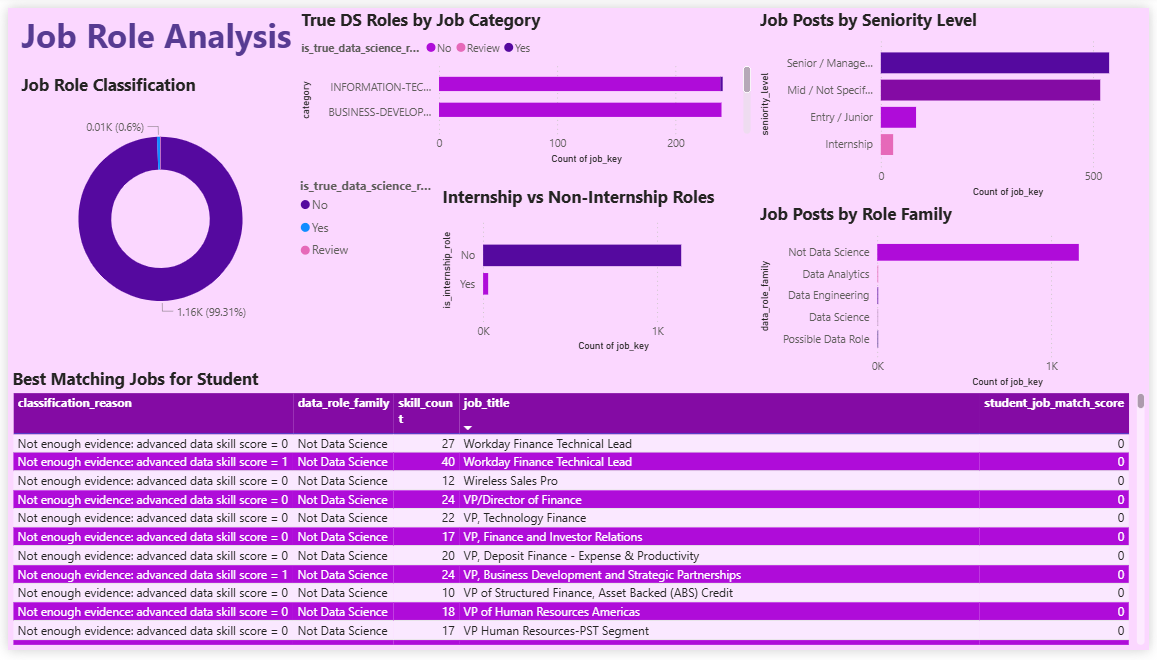

The page's visual inventory and layout, read from the dashboard file:
{"tool":"powerbi","page":{"name":"Job Role Analysis","canvas":[1280,720],"ordinal":4},"visuals":[{"type":"textbox","box":[9.6,0,473.3,72.2],"z":0},{"type":"donutChart","title":"Job Role Classification","fields":{"Category":["Jobs.is_true_data_science_role"],"Y":["CountNonNull(Jobs.job_key)"]},"box":[10,72.9,472.9,302.9],"z":1000},{"type":"clusteredBarChart","title":"Job Posts by Role Family","fields":{"Category":["Jobs.data_role_family"],"Y":["CountNonNull(Jobs.job_key)"]},"box":[838.6,217.1,441.4,212.9],"z":2000},{"type":"barChart","title":"True DS Roles by Job Category","fields":{"Category":["Jobs.category"],"Y":["CountNonNull(Jobs.job_key)"],"Series":["Jobs.is_true_data_science_role"]},"box":[324.3,0,514.3,180],"z":3000},{"type":"clusteredBarChart","title":"Internship vs Non-Internship Roles","fields":{"Category":["Jobs.is_internship_role"],"Y":["CountNonNull(Jobs.job_key)"]},"box":[482.9,198.6,355.7,191.4],"z":4000},{"type":"clusteredBarChart","title":"Job Posts by Seniority Level","fields":{"Category":["Jobs.seniority_level"],"Y":["CountNonNull(Jobs.job_key)"]},"box":[838.6,0,441.4,217.1],"z":5000},{"type":"tableEx","title":"Best Matching Jobs for Student","fields":{"Values":["Jobs.classification_reason","Jobs.data_role_family","Jobs.skill_count","Jobs.job_title","Jobs.student_job_match_score"]},"box":[0,402.9,1280,317.1],"z":6000}]}

Visuals, with their boxes in screenshot pixels (x1, y1, x2, y2), scaled from the page's 1280x720 canvas onto the 1157x660 screenshot:
textbox: {"x1": 9, "y1": 0, "x2": 436, "y2": 66}
"Job Role Classification" donutChart: {"x1": 9, "y1": 67, "x2": 436, "y2": 344}
"Job Posts by Role Family" clusteredBarChart: {"x1": 758, "y1": 199, "x2": 1156, "y2": 394}
"True DS Roles by Job Category" barChart: {"x1": 293, "y1": 0, "x2": 758, "y2": 165}
"Internship vs Non-Internship Roles" clusteredBarChart: {"x1": 436, "y1": 182, "x2": 758, "y2": 358}
"Job Posts by Seniority Level" clusteredBarChart: {"x1": 758, "y1": 0, "x2": 1156, "y2": 199}
"Best Matching Jobs for Student" tableEx: {"x1": 0, "y1": 369, "x2": 1156, "y2": 659}
